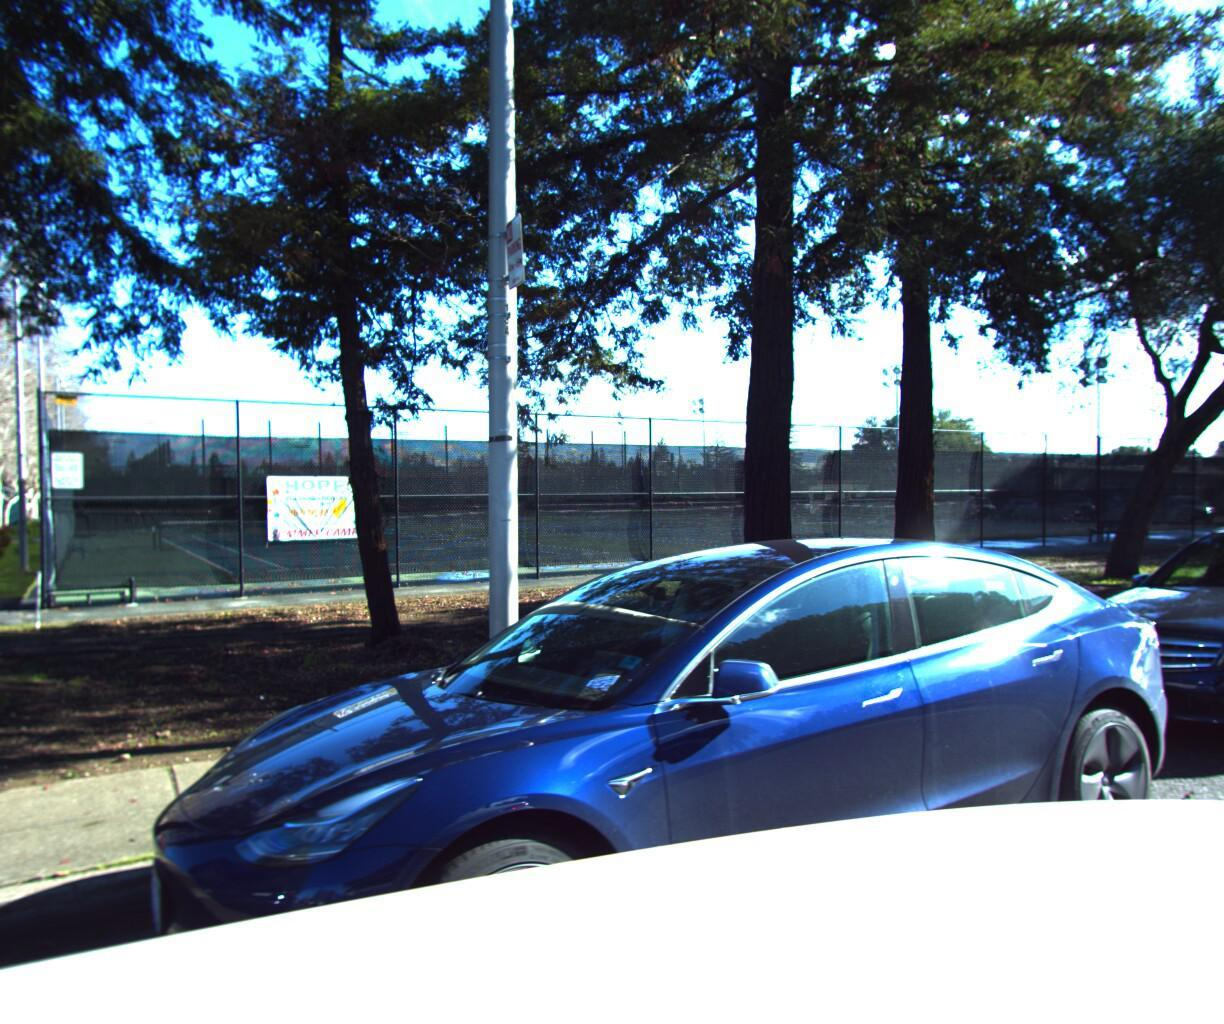car: (126, 513, 1224, 1024), (1020, 503, 1224, 789)
